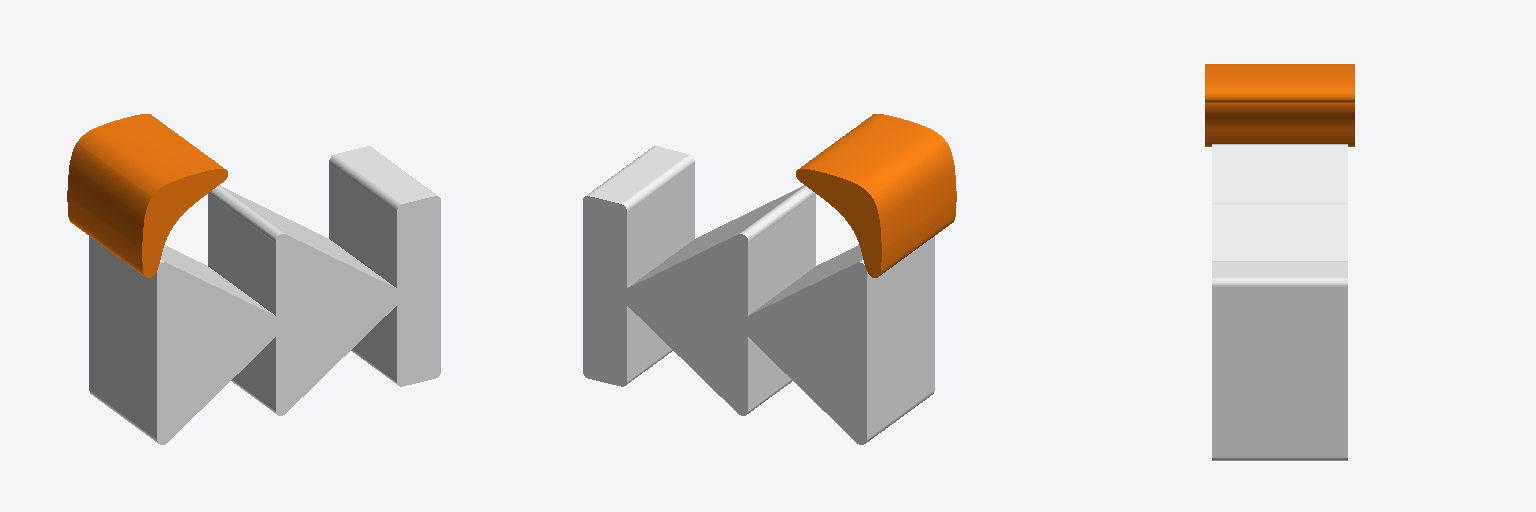
3 renders of one model, left to right at view 1: azimuth 30°, elevation 25°; view 2: azimuth 150°, elevation 25°; view 3: azimuth 270°, elevation 25°, orthographic.
Parts seen in each view (by area): view 1: U+23ED_layer00_obj00, U+23ED_layer01_obj00; view 2: U+23ED_layer00_obj00, U+23ED_layer01_obj00; view 3: U+23ED_layer00_obj00, U+23ED_layer01_obj00.
Boxes of the visible parts, box(x1,y1,x2,y2) form: U+23ED_layer00_obj00: box(89, 146, 440, 444); U+23ED_layer01_obj00: box(67, 114, 227, 277); U+23ED_layer00_obj00: box(583, 146, 934, 444); U+23ED_layer01_obj00: box(796, 114, 956, 277); U+23ED_layer00_obj00: box(1212, 144, 1347, 460); U+23ED_layer01_obj00: box(1205, 64, 1354, 146).
Bounding box in the file's own units: 0.2567 × 0.2166 × 0.11.